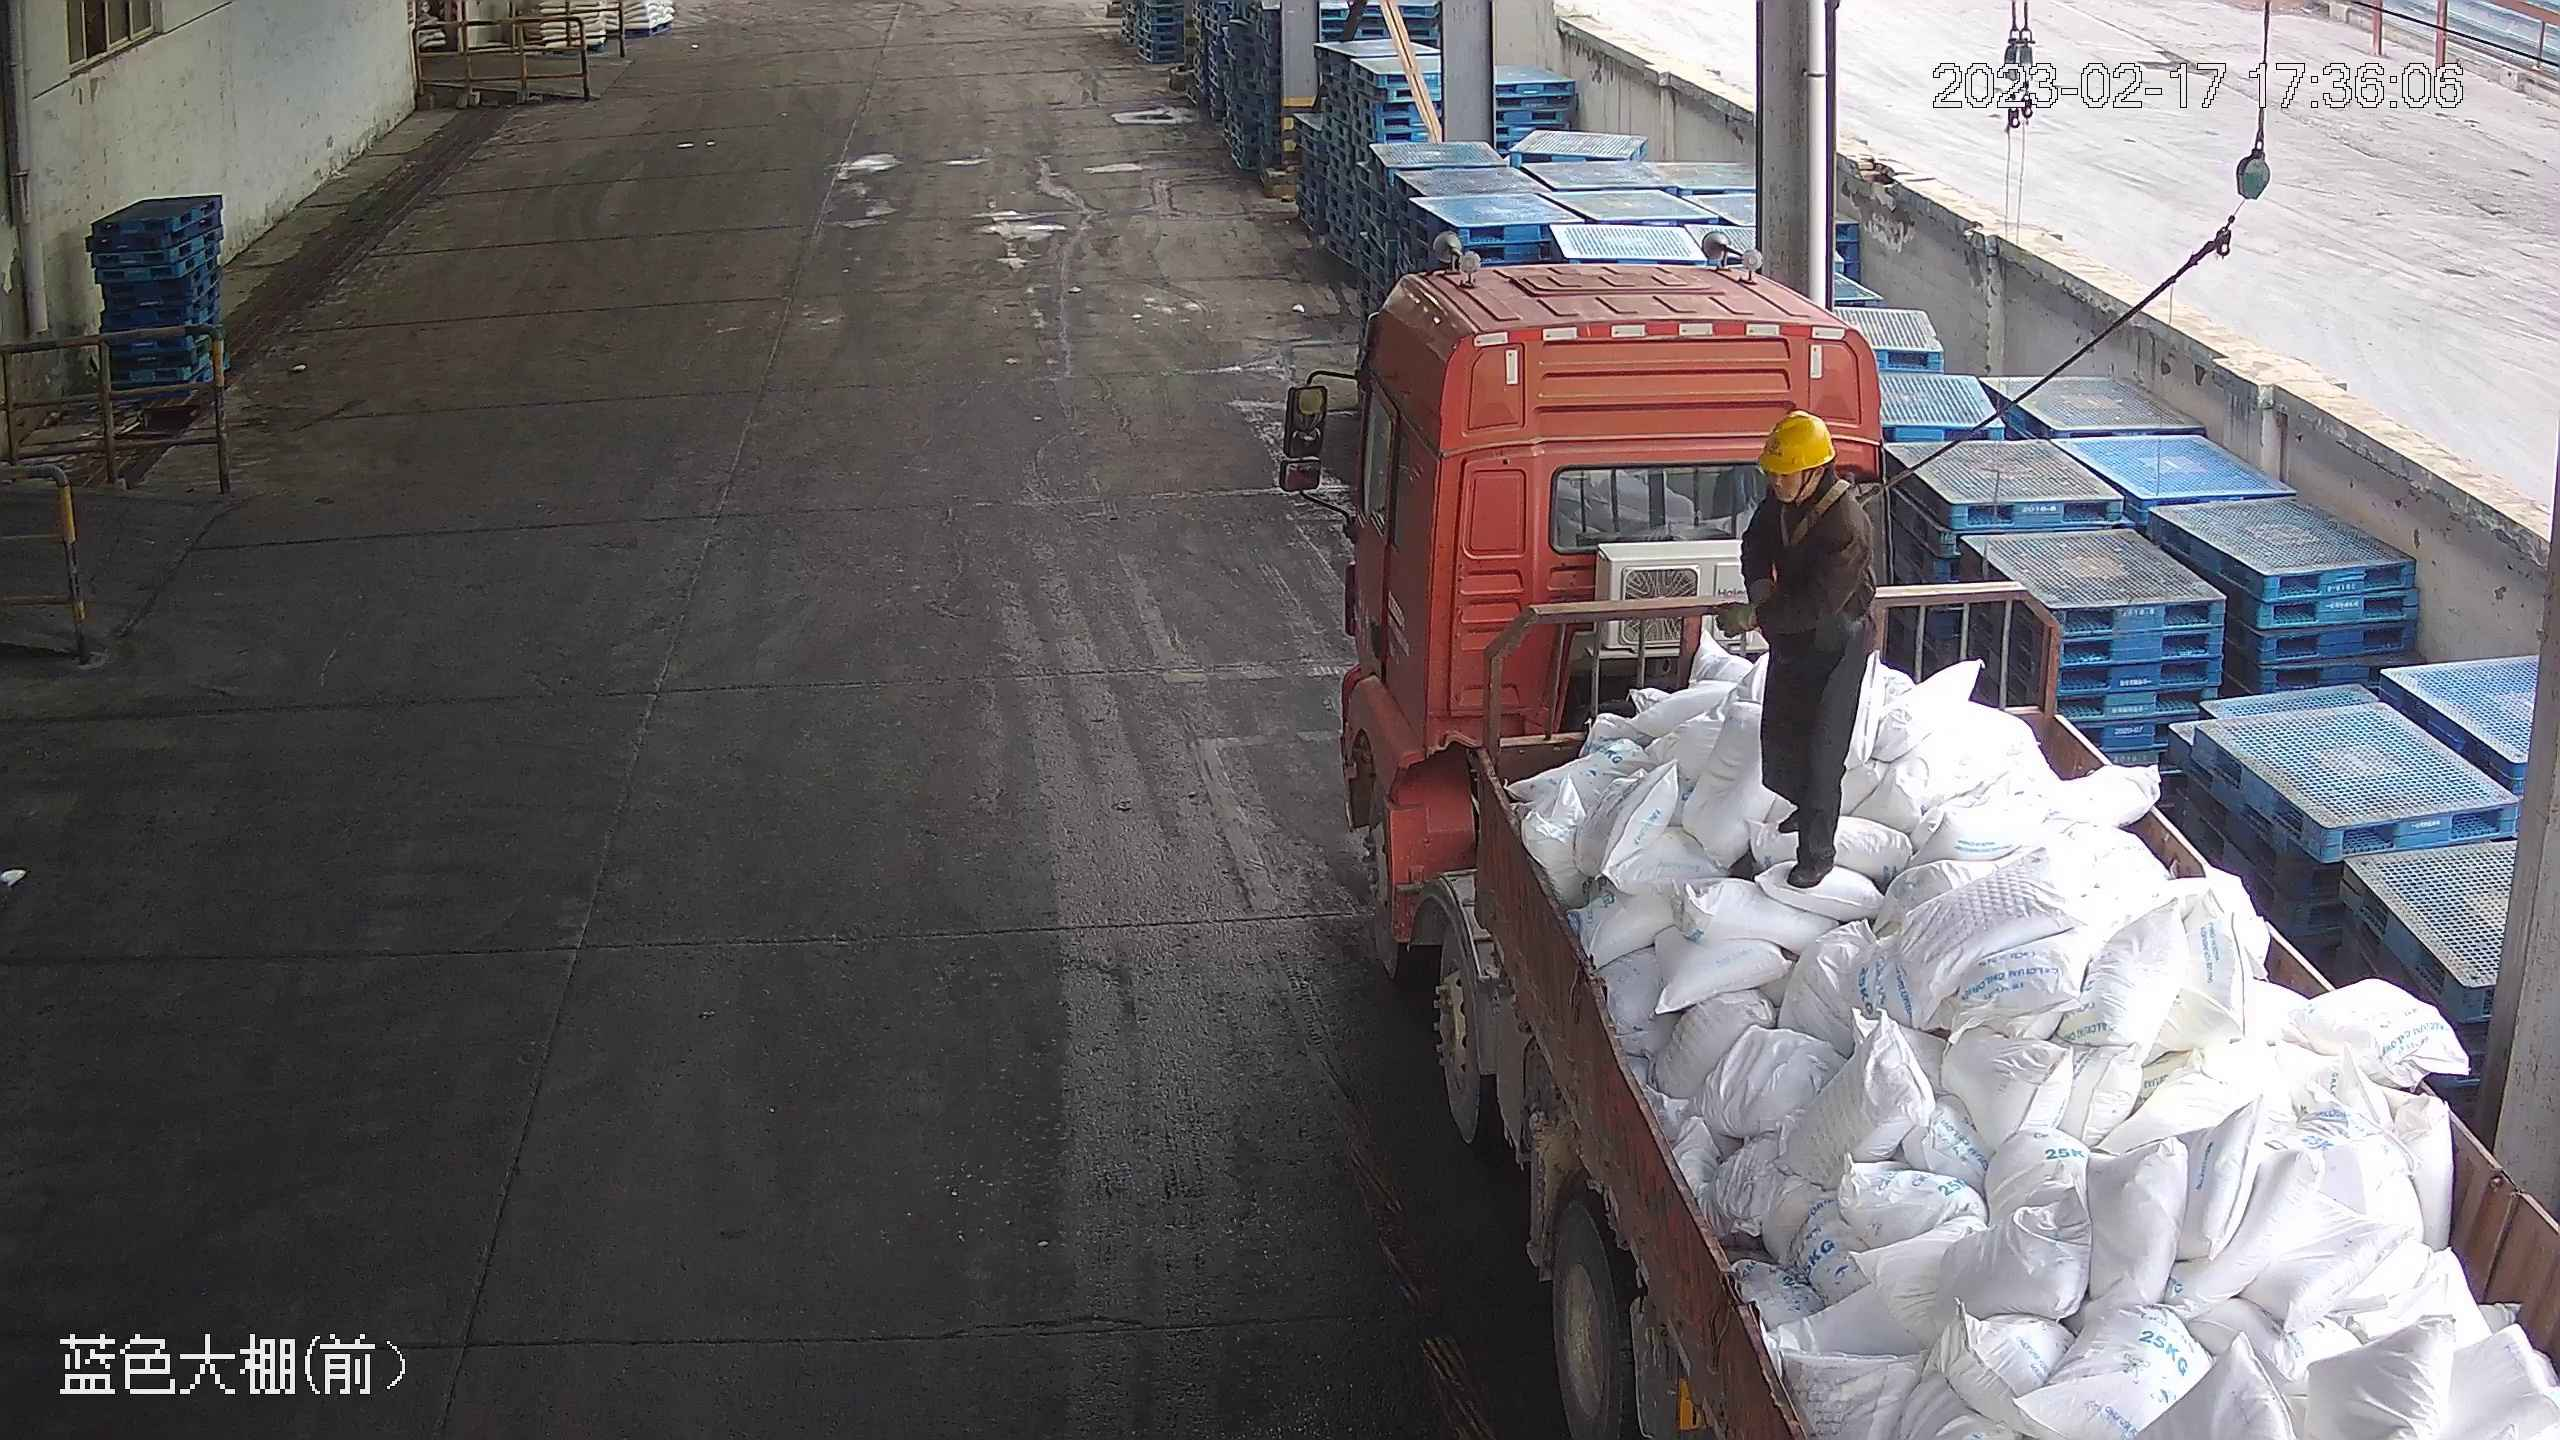belt: (1765, 473, 1877, 551)
head: (1737, 409, 1880, 563)
helmet: (1754, 409, 1834, 473)
people: (1727, 410, 1884, 895)
truck: (1276, 240, 2556, 1432)
